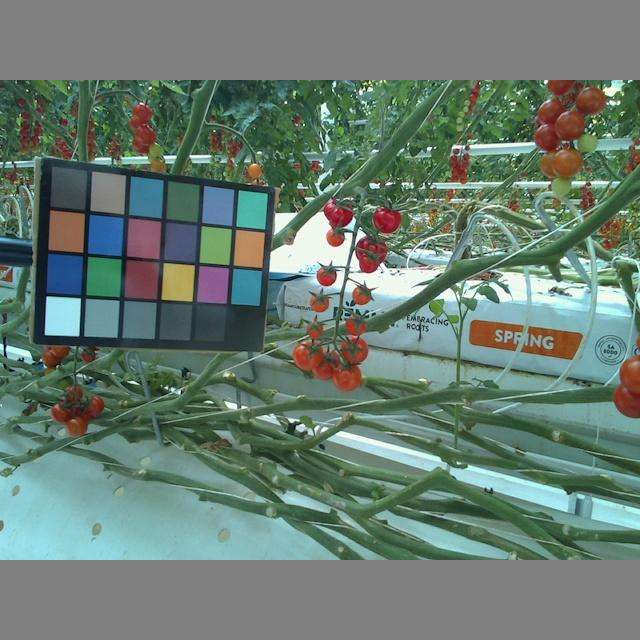green: (550, 174, 571, 198), (574, 133, 597, 153)
pink: (290, 338, 324, 371), (311, 346, 342, 381), (552, 144, 584, 177), (555, 107, 587, 138), (332, 363, 364, 392), (572, 88, 608, 113), (341, 333, 367, 363), (344, 312, 369, 335), (315, 265, 337, 288), (349, 283, 371, 305), (309, 290, 328, 311), (304, 318, 322, 339), (325, 229, 345, 246)
red: (354, 235, 387, 264), (536, 98, 570, 125), (532, 122, 566, 149), (323, 196, 352, 226), (373, 205, 403, 232), (358, 253, 379, 276)
